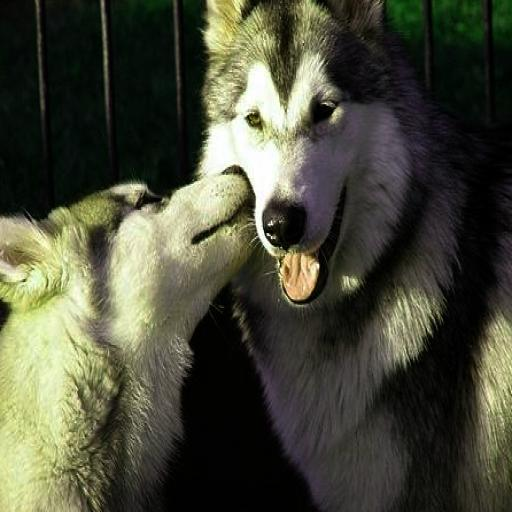dog_face: (193, 0, 396, 307)
